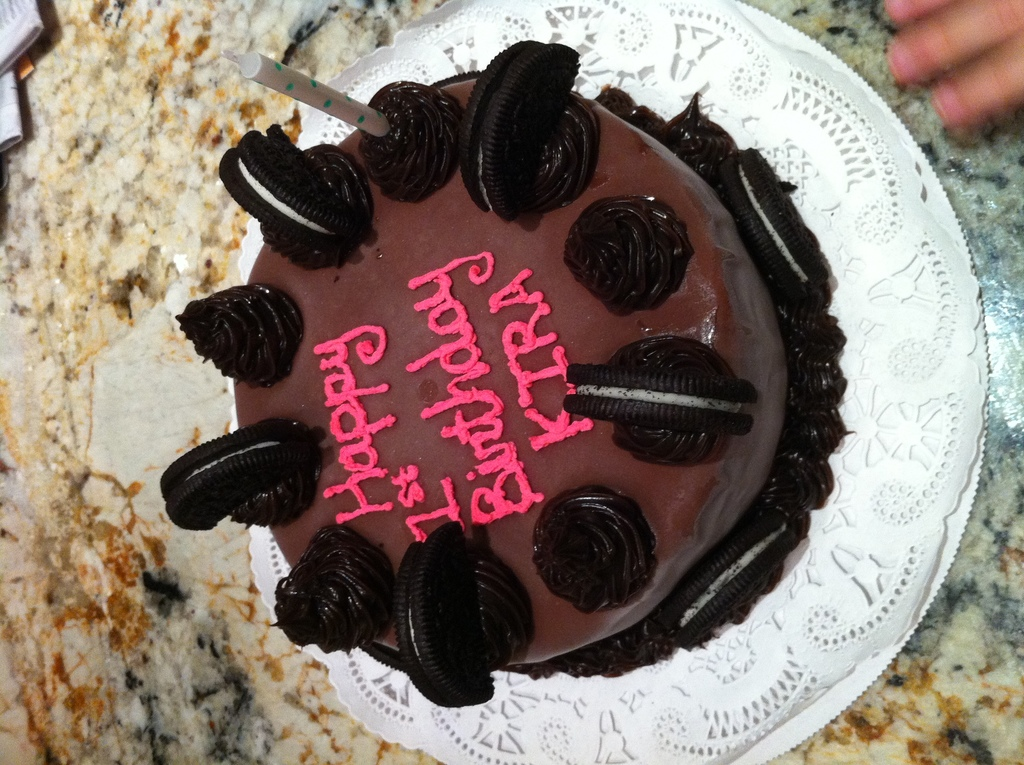cake: (154, 40, 836, 704)
